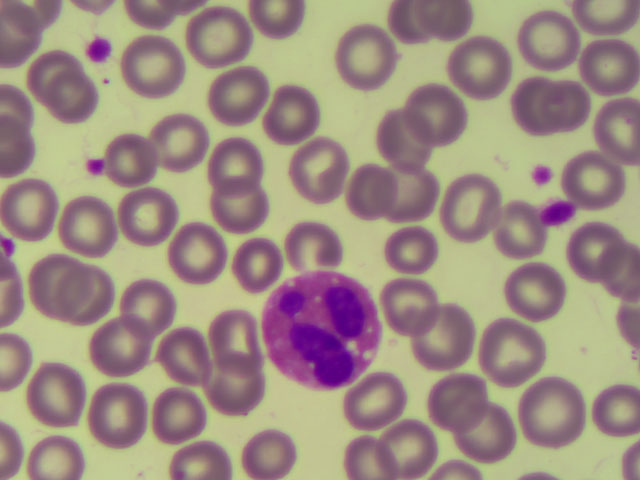Platelets: (543, 196, 576, 233), (81, 33, 114, 64), (531, 162, 557, 184), (82, 154, 104, 174)
RBC: (380, 411, 445, 480), (232, 411, 297, 480), (165, 411, 230, 480), (27, 411, 92, 480), (120, 34, 185, 102), (183, 4, 248, 72), (207, 61, 272, 129), (256, 83, 321, 151), (287, 141, 352, 209), (204, 133, 269, 201), (204, 174, 269, 242), (146, 106, 211, 174), (105, 130, 170, 198), (119, 180, 184, 248), (156, 234, 221, 302), (223, 228, 288, 296), (291, 204, 356, 272), (332, 159, 397, 227), (380, 159, 445, 227), (371, 111, 436, 179), (409, 74, 474, 142), (334, 26, 399, 94), (445, 30, 510, 98), (503, 9, 568, 77), (516, 69, 581, 137), (432, 167, 497, 235), (476, 194, 541, 262), (575, 222, 640, 290), (575, 155, 640, 223), (575, 89, 640, 157), (575, 34, 640, 102), (503, 255, 568, 323), (486, 312, 551, 380), (440, 361, 505, 429), (404, 296, 469, 364), (382, 273, 447, 341), (375, 213, 440, 281), (340, 362, 405, 430), (463, 396, 528, 464), (530, 376, 595, 444), (575, 377, 640, 445), (149, 385, 214, 453), (212, 354, 277, 422), (200, 309, 265, 377), (158, 317, 223, 385), (88, 316, 153, 384), (115, 281, 180, 349), (83, 376, 148, 444), (28, 362, 93, 430), (23, 253, 88, 321), (55, 262, 120, 330), (54, 193, 119, 261), (47, 75, 112, 143), (25, 44, 90, 112), (1, 181, 65, 249), (246, 1, 317, 40)
WBC: (264, 267, 383, 394)
